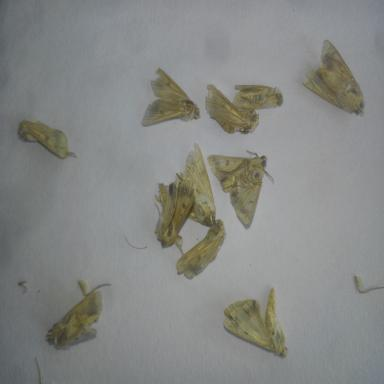abw: (296, 33, 369, 121), (204, 144, 278, 230), (221, 284, 291, 365), (43, 280, 118, 355), (172, 140, 220, 234), (139, 62, 204, 130), (171, 213, 231, 285), (200, 77, 262, 139), (153, 173, 200, 252), (14, 116, 81, 164), (228, 79, 290, 116)
